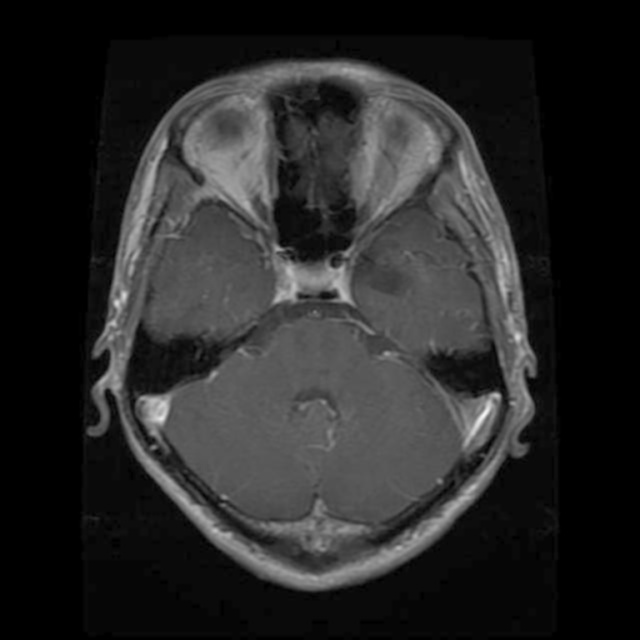pituitary tumor: (284, 394, 335, 450)
